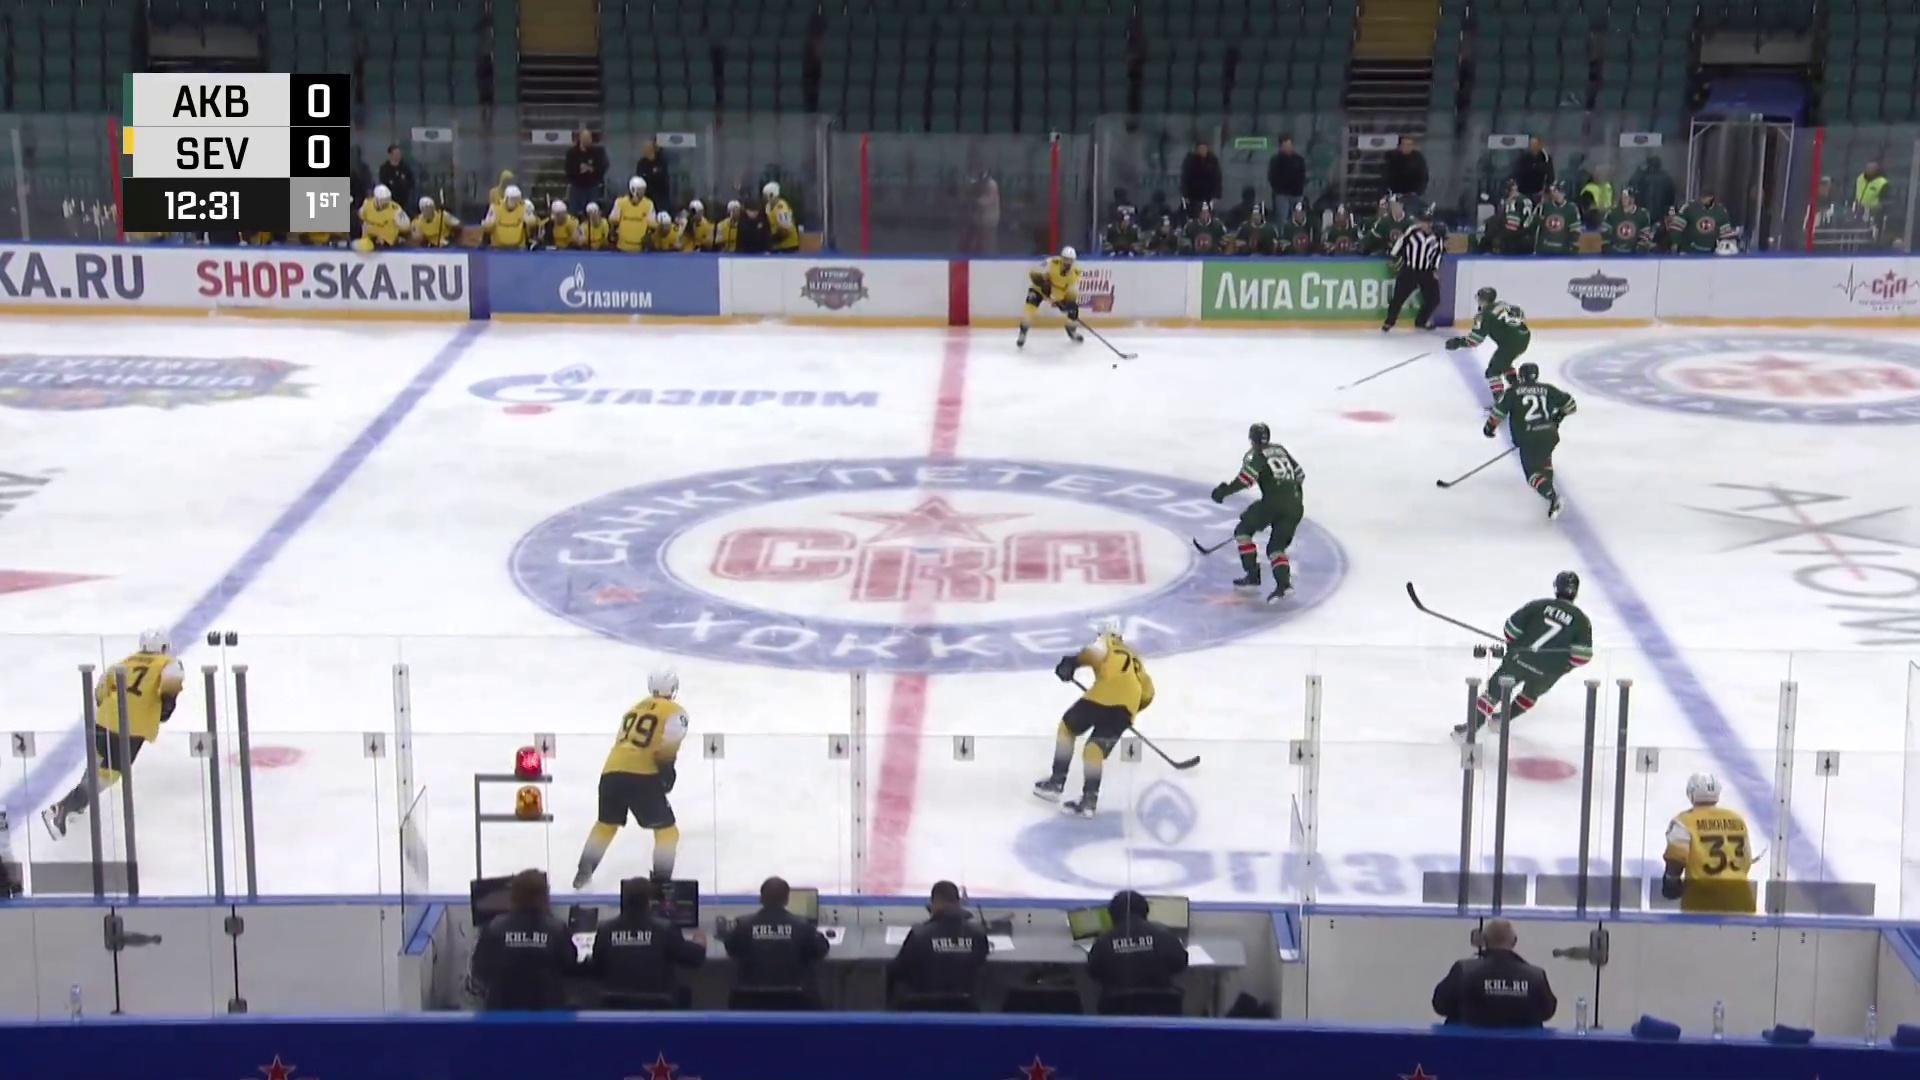ball: (1112, 363, 1120, 369)
